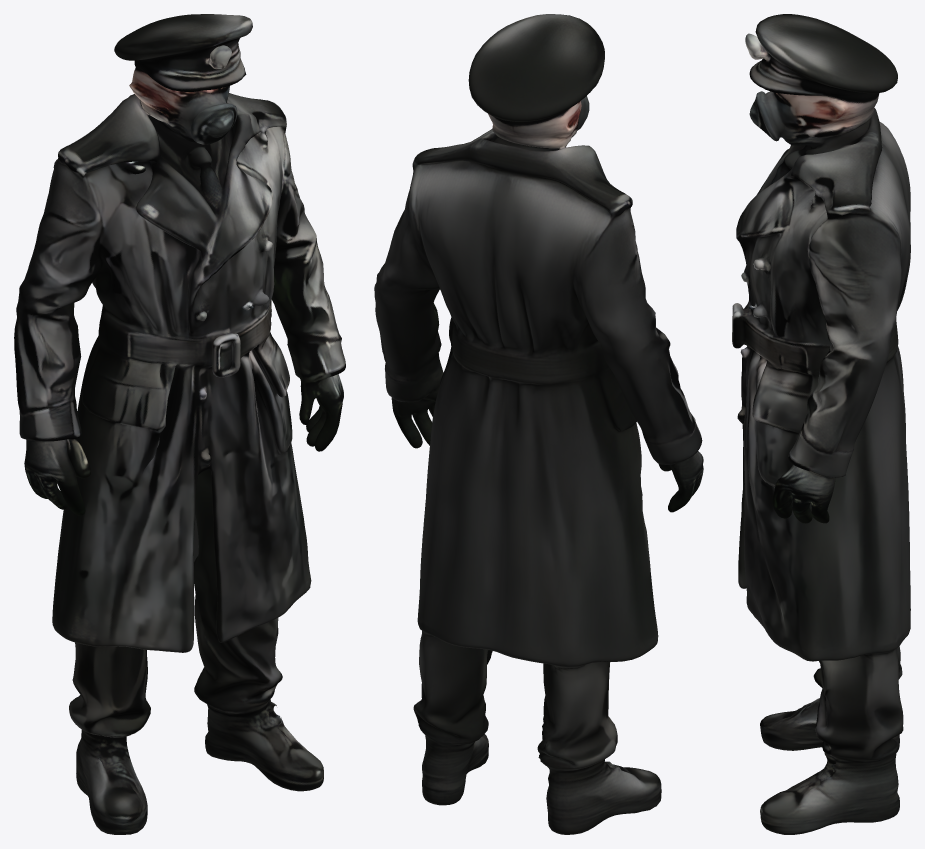
File: warden.glb
3 views of the same model, side by side, from view 1: azimuth 30°, elevation 25°; view 2: azimuth 150°, elevation 25°; view 3: azimuth 270°, elevation 25° (orthographic). The views are drawn at different scales.
Visible parts, largest first — view 1: model; view 2: model; view 3: model.
Boxes of the visible parts, bbox=[...] form: model: bbox=[14, 14, 345, 834]; model: bbox=[374, 14, 703, 834]; model: bbox=[732, 14, 910, 834].
Size of the model in its own units: 0.8049 by 1.89 by 0.4056.
Materials: 1 (1 with a texture image).
